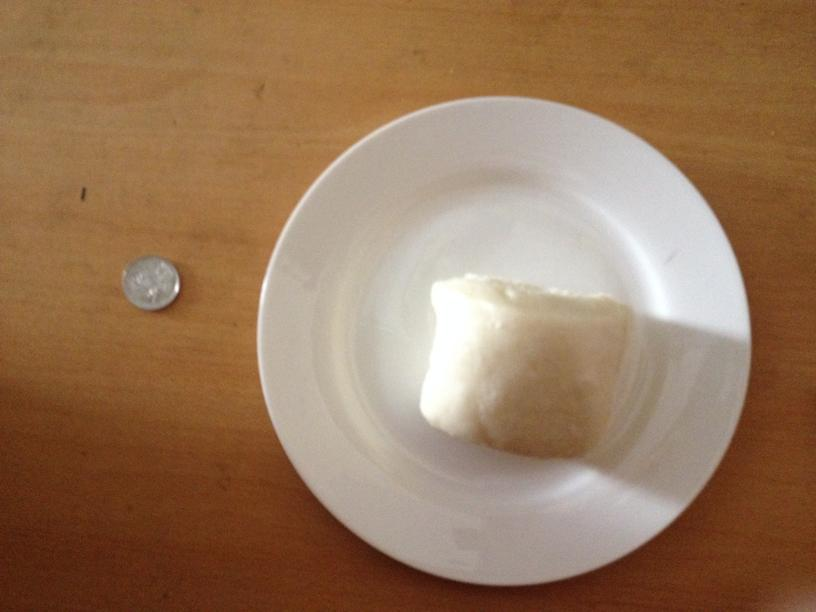bun: (423, 277, 627, 461)
coin: (119, 252, 182, 313)
